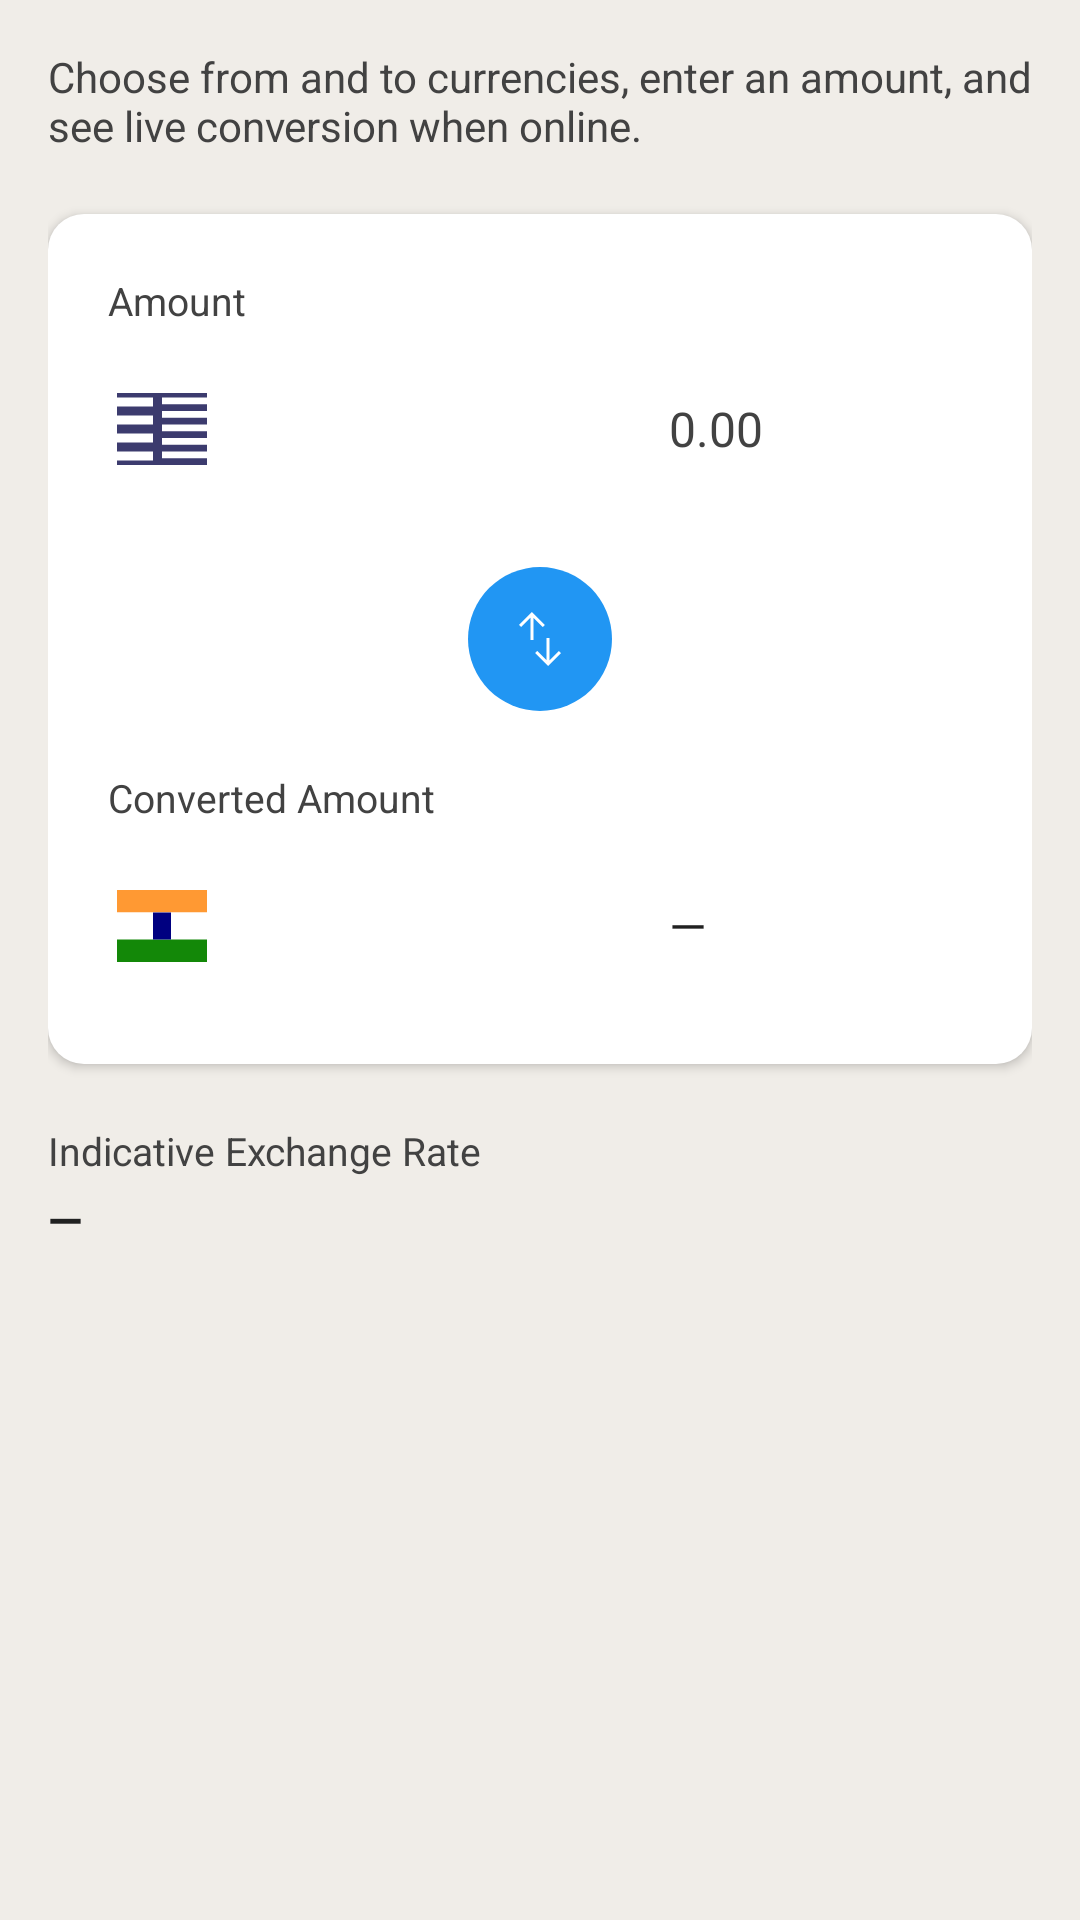

Named icons in this screenshot (1080*1920) and their bounding boxes, (x1, y1, x2, y2):
flag in: (117, 890, 207, 962)
Swap currencies: (468, 567, 612, 711)
